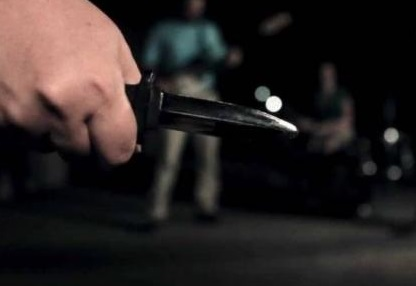knife: (42, 64, 314, 165)
